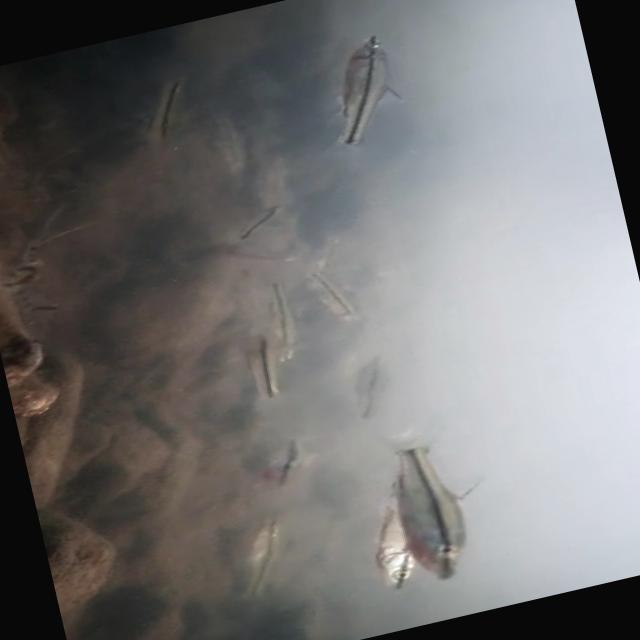Cakil Baligi: (371, 408, 510, 593), (309, 24, 418, 154)
